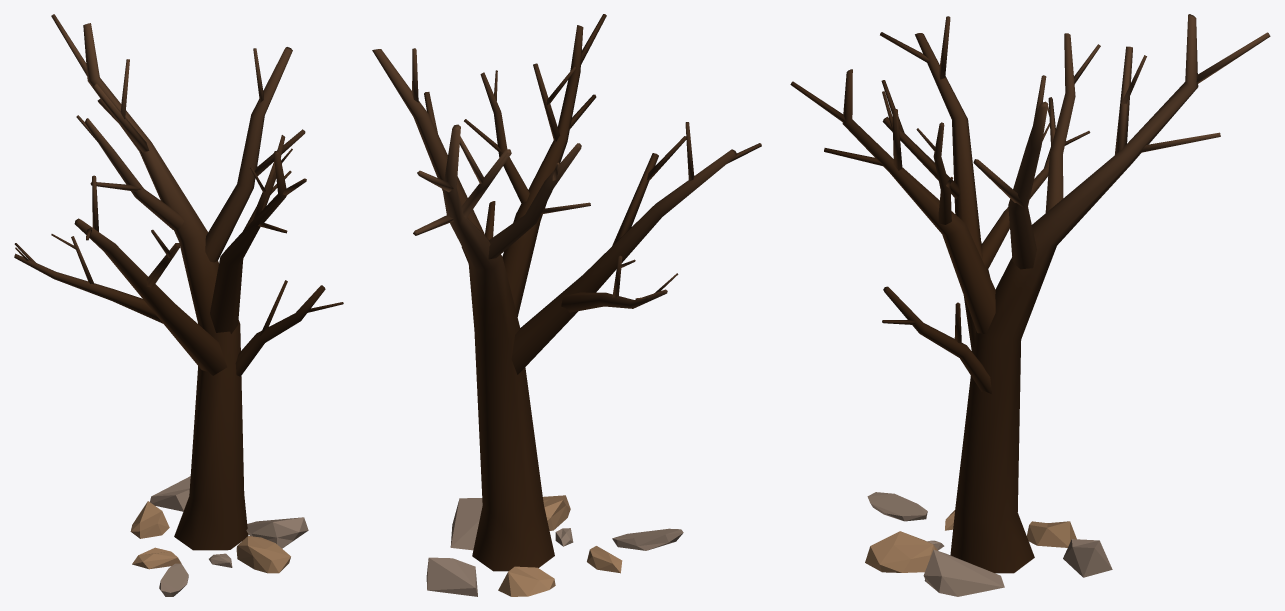
File: Tree 3.glb
3 renders of one model, left to right at view 1: azimuth 30°, elevation 25°; view 2: azimuth 150°, elevation 25°; view 3: azimuth 270°, elevation 25°, orthographic. The views are drawn at different scales.
Parts seen in each view (by area): view 1: Tree 3; view 2: Tree 3; view 3: Tree 3.
Boxes of the visible parts, x1,y1,x2,y2 form: Tree 3: (14,14,343,596); Tree 3: (372,14,761,596); Tree 3: (790,14,1270,596).
Size of what is drawn, in the model's own units: 3.53 by 5.62 by 4.65.
1 material, 1 textured.
